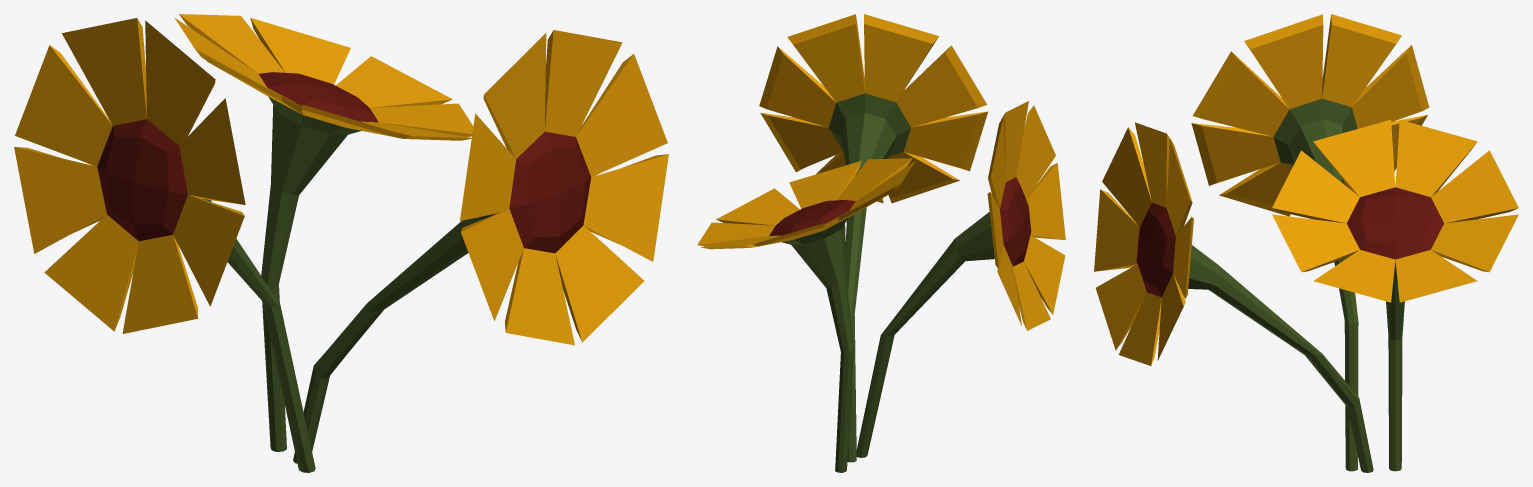
Rendered from Flower3.glb.
3 views of the same model, side by side, from view 1: azimuth 30°, elevation 25°; view 2: azimuth 150°, elevation 25°; view 3: azimuth 270°, elevation 25° (orthographic). The views are drawn at different scales.
Visible parts, largest first — view 1: Flower3; view 2: Flower3; view 3: Flower3.
Boxes of the visible parts, x1,y1,x2,y2 form: Flower3: [14, 14, 668, 472]; Flower3: [697, 14, 1065, 472]; Flower3: [1094, 14, 1518, 472].
Size of the model in its own units: 0.3934 by 0.3816 by 0.3797.
